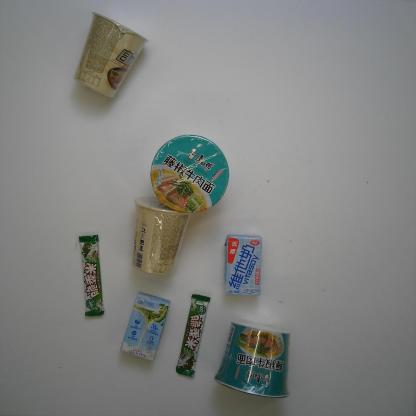Chocolate: (176, 294, 211, 379), (79, 235, 105, 317)
Instant Noodles: (73, 11, 149, 99), (149, 134, 231, 214), (214, 320, 291, 400), (131, 195, 191, 277)
Milk: (120, 291, 171, 362), (223, 233, 263, 297)
